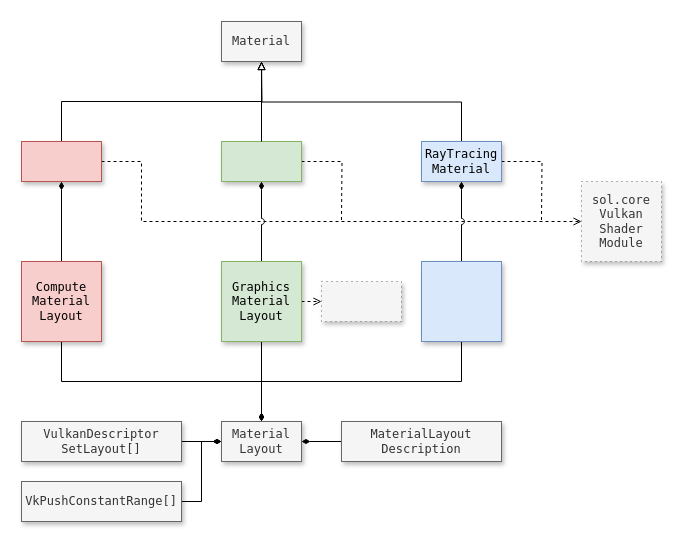
Some shapes in this 685 by 546 pixel diagram are drawn without their labels. The shapes that lost their labels are listed below. From the top down, each one's centre as x and y in pixels, then its label:
At (62,162): "Compute Material".
At (262,162): "Graphics Material".
At (362,302): "sol.mesh MeshLayout".
At (462,302): "RayTracing Material Layout".
